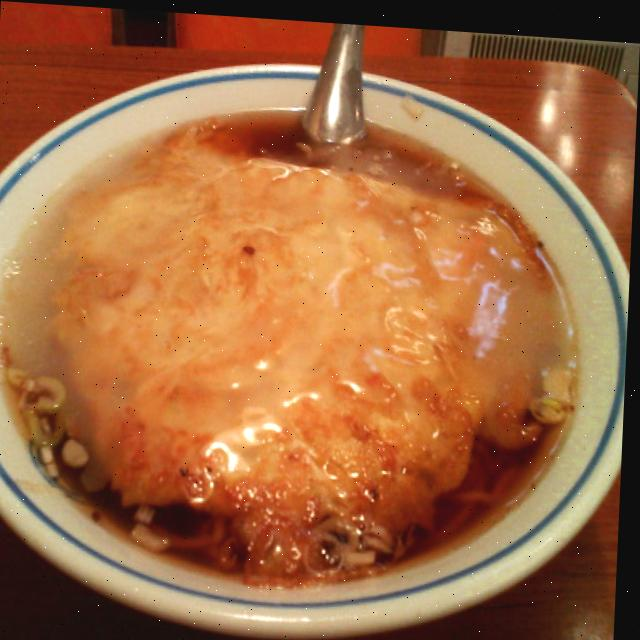面条主食: (0, 82, 599, 605)
